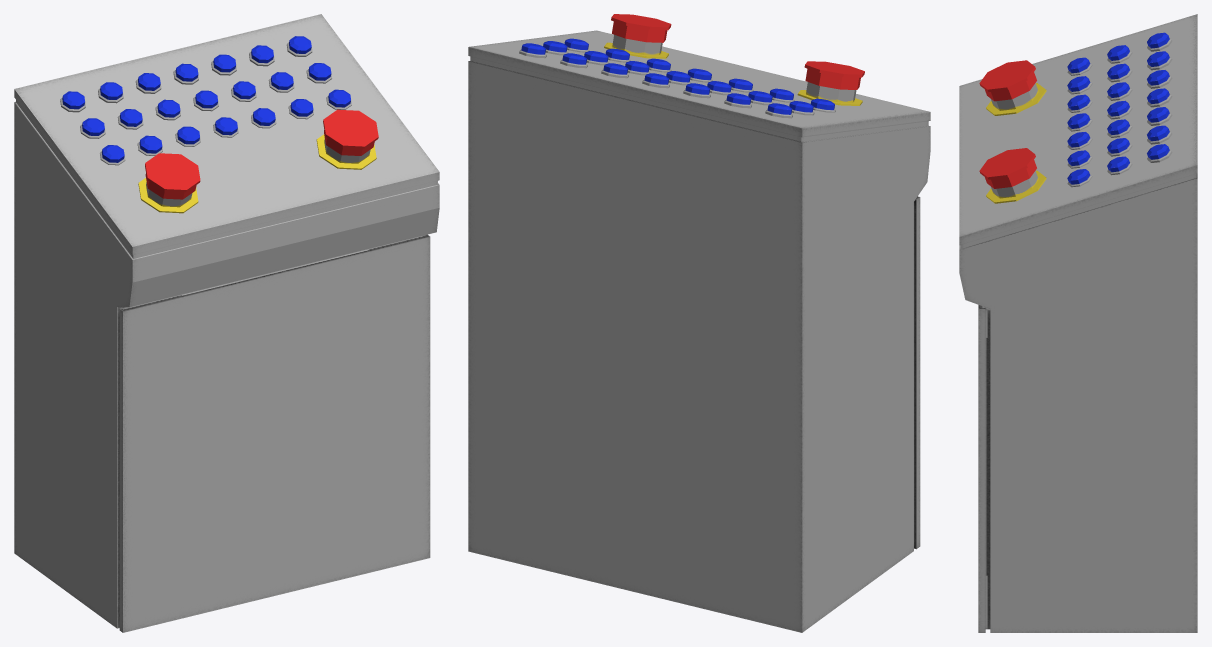
The model's file is End Button.fbx.
The picture shows the model from 3 angles, left to right: view 1: azimuth 30°, elevation 25°; view 2: azimuth 150°, elevation 25°; view 3: azimuth 270°, elevation 25°; orthographic projection. The views are drawn at different scales.
Parts seen in each view (by area): view 1: Background Button.Low, Button.Stop, Button.Start; view 2: Background Button.Low, Button.Start, Button.Stop; view 3: Background Button.Low, Button.Stop, Button.Start.
Part boxes in pixels (x1,y1,x2,y2): Background Button.Low: (14, 14, 439, 632); Button.Stop: (145, 153, 200, 199); Button.Start: (323, 109, 378, 155); Background Button.Low: (468, 30, 930, 632); Button.Start: (611, 14, 671, 42); Button.Stop: (804, 61, 864, 89); Background Button.Low: (959, 14, 1197, 632); Button.Stop: (979, 60, 1036, 101); Button.Start: (979, 148, 1036, 188).
Size of the model in its own units: 90 by 130 by 60.
5 materials, 4 textured.
